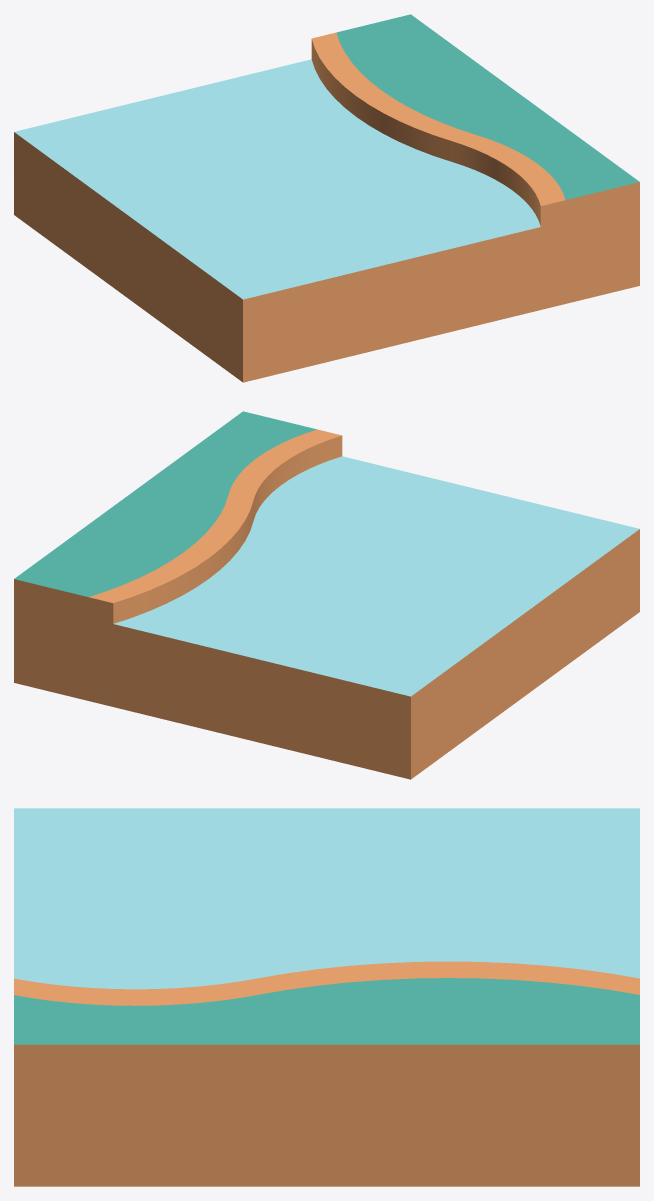
File: ground_river_one_edge.obj
3 views of the same model, one above another, from view 1: azimuth 30°, elevation 25°; view 2: azimuth 150°, elevation 25°; view 3: azimuth 270°, elevation 25° (orthographic). The views are drawn at different scales.
Parts seen in each view (by area): view 1: ground_dirtRiverSide.001; view 2: ground_dirtRiverSide.001; view 3: ground_dirtRiverSide.001.
Boxes of the visible parts, x1,y1,x2,y2 form: ground_dirtRiverSide.001: [14, 14, 639, 382]; ground_dirtRiverSide.001: [14, 411, 639, 779]; ground_dirtRiverSide.001: [14, 808, 639, 1186].
Bounding box in the file's own units: 10 × 2.5 × 10.
